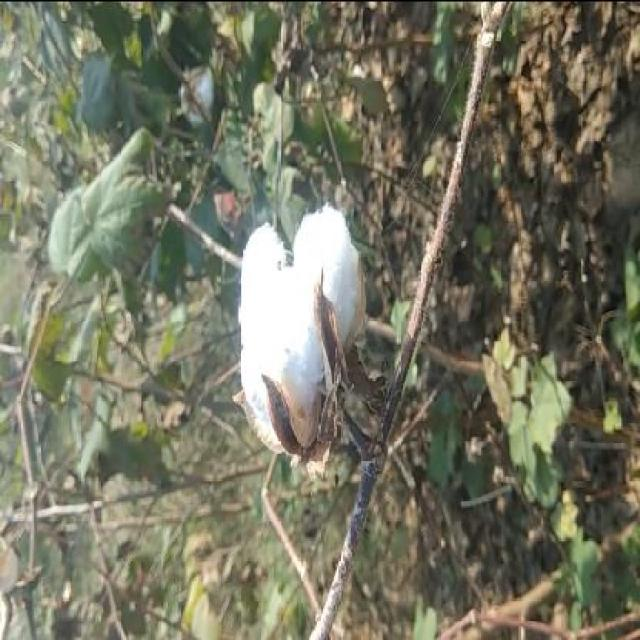cotton_ready: (206, 185, 431, 492)
